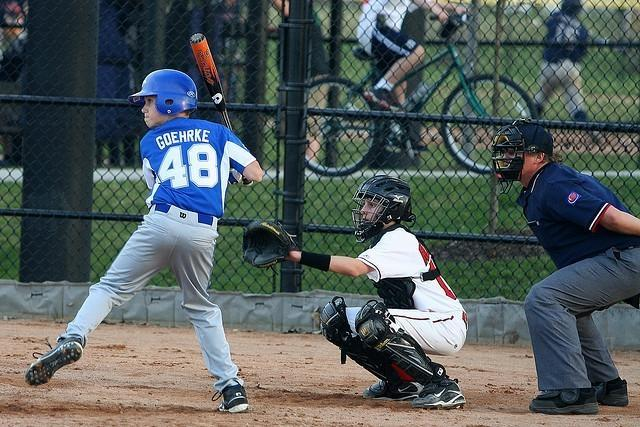bicycle: (306, 16, 542, 176)
